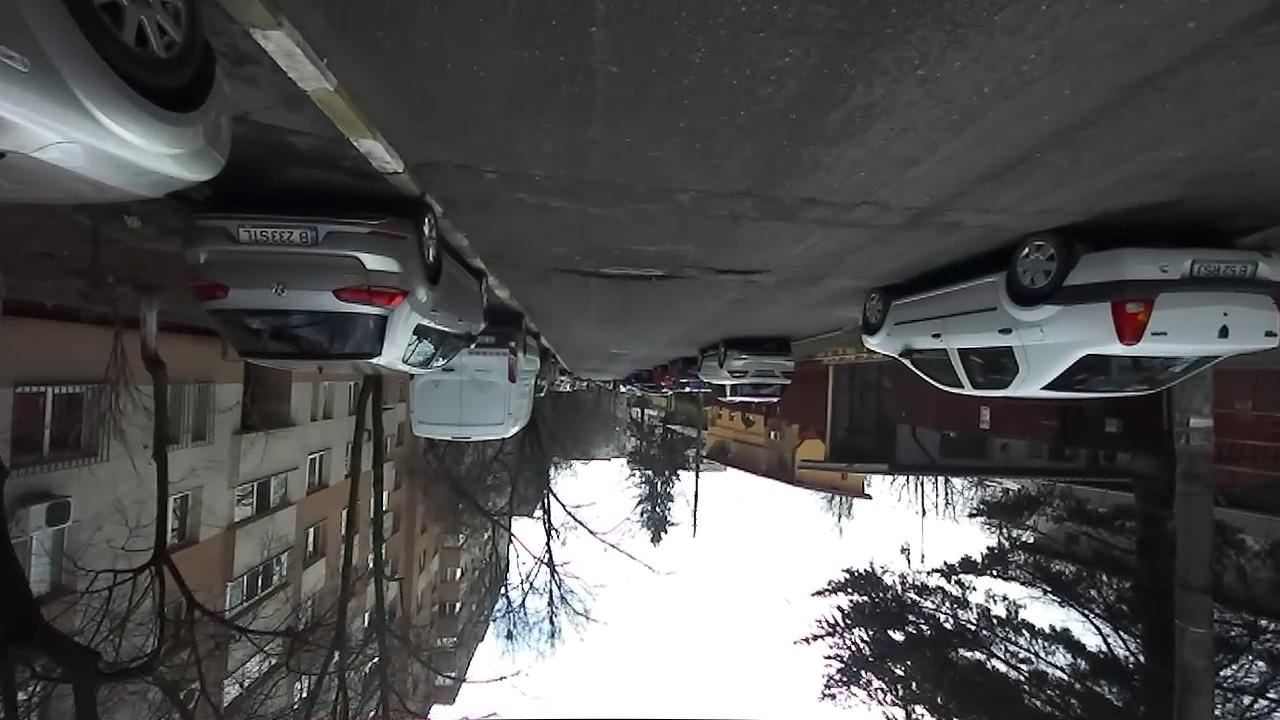pothole: (549, 262, 689, 285), (417, 153, 502, 178), (700, 266, 773, 282)
